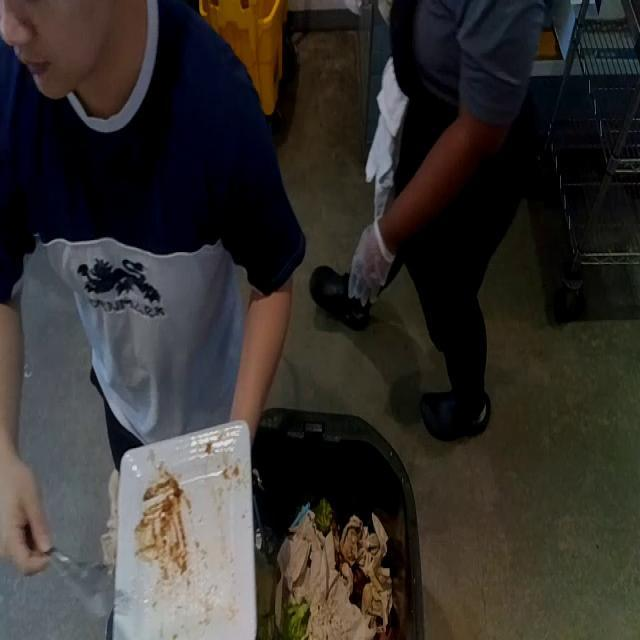Anorganik: (104, 413, 269, 639)
Organik: (121, 459, 201, 583)
